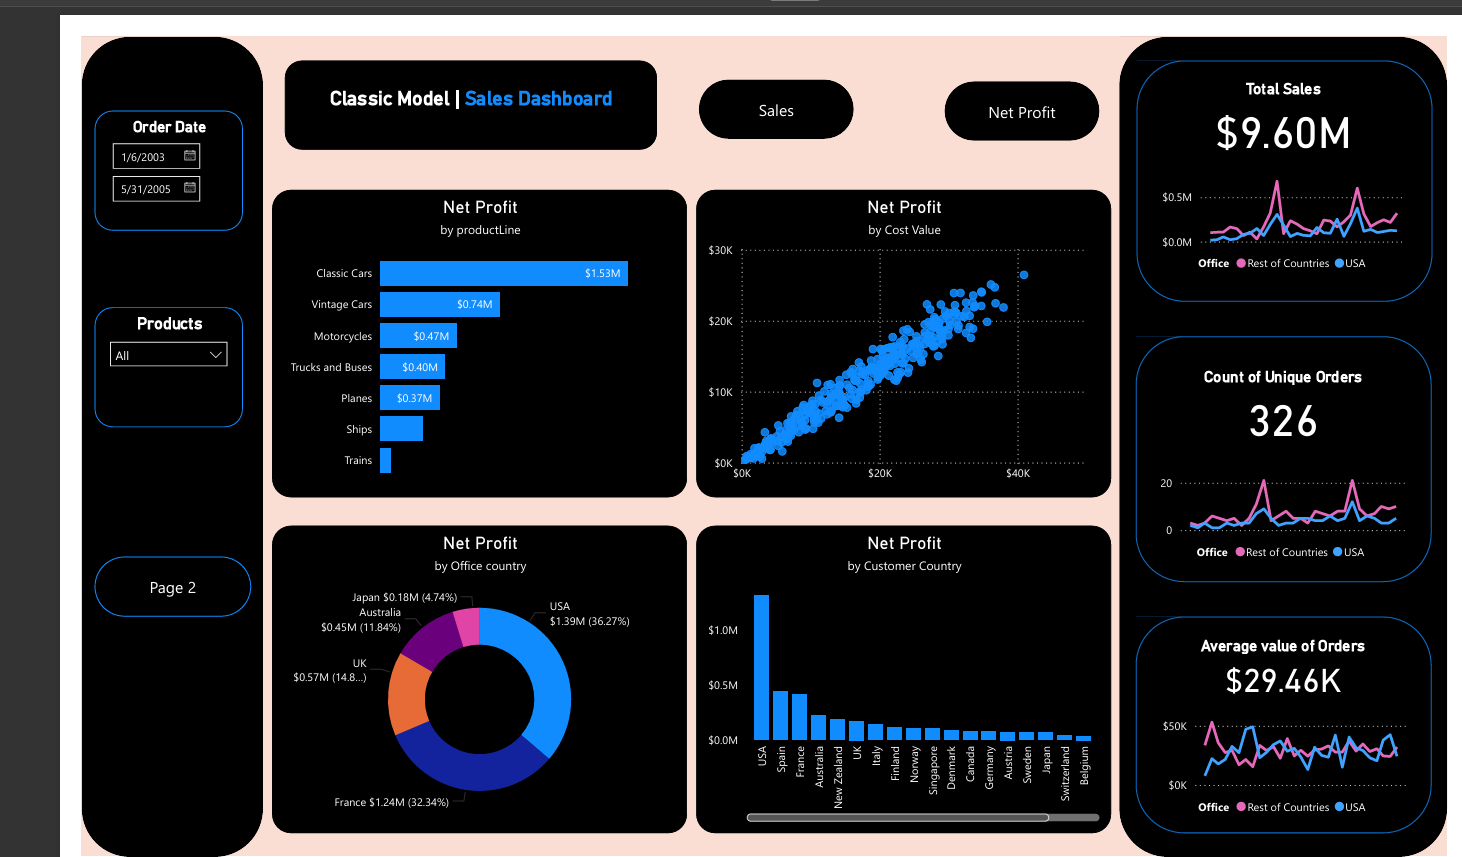

What the dashboard file says about the page in this screenshot:
{"tool":"powerbi","page":{"name":"Sales Overview 1","canvas":[1500,900],"ordinal":0},"visuals":[{"type":"shape","box":[0,0,199.4,900.5],"z":0},{"type":"shape","box":[1140.1,0,360.2,900.5],"z":1000},{"type":"shape","box":[1159.4,25.7,324.8,265.3],"z":2000},{"type":"shape","box":[1157.8,328.8,324.8,270.2],"z":3000},{"type":"shape","title":"Average Value of Each order","box":[1157.8,636.8,324.8,238],"z":4000},{"type":"card","title":"Total Sales","fields":{"Values":["Sum(classicmodels sales_data_for_power_bi.sales_value)"]},"box":[1172.3,46.6,295.9,86.8],"z":5000},{"type":"card","title":"Count of Unique Orders","fields":{"Values":["Count(classicmodels sales_data_for_power_bi.ordernumber)"]},"box":[1172.3,363.4,295.9,86.8],"z":6000},{"type":"card","title":"Average value of Orders","fields":{"Values":["classicmodels sales_data_for_power_bi.Avg Sales per order"]},"box":[1172.3,659.3,295.9,70.8],"z":7000},{"type":"lineChart","fields":{"Y":["Sum(classicmodels sales_data_for_power_bi.sales_value)"],"Category":["classicmodels sales_data_for_power_bi.orderdate.Variation.Date Hierarchy.Year","classicmodels sales_data_for_power_bi.orderdate.Variation.Date Hierarchy.Quarter","classicmodels sales_data_for_power_bi.orderdate.Variation.Date Hierarchy.Month"],"Series":["classicmodels sales_data_for_power_bi.Office Grouped"]},"box":[1181.9,133.5,278.2,133.5],"z":8000},{"type":"lineChart","fields":{"Category":["classicmodels sales_data_for_power_bi.orderdate.Variation.Date Hierarchy.Year","classicmodels sales_data_for_power_bi.orderdate.Variation.Date Hierarchy.Quarter","classicmodels sales_data_for_power_bi.orderdate.Variation.Date Hierarchy.Month"],"Series":["classicmodels sales_data_for_power_bi.Office Grouped"],"Y":["Count(classicmodels sales_data_for_power_bi.ordernumber)"]},"box":[1180.3,450.3,278.2,133.5],"z":9000},{"type":"lineChart","fields":{"Category":["classicmodels sales_data_for_power_bi.orderdate.Variation.Date Hierarchy.Year","classicmodels sales_data_for_power_bi.orderdate.Variation.Date Hierarchy.Quarter","classicmodels sales_data_for_power_bi.orderdate.Variation.Date Hierarchy.Month"],"Series":["classicmodels sales_data_for_power_bi.Office Grouped"],"Y":["classicmodels sales_data_for_power_bi.Avg Sales per order"]},"box":[1181.9,730.1,278.2,133.5],"z":10000},{"type":"clusteredBarChart","fields":{"Category":["classicmodels sales_data_for_power_bi.productLine"],"Y":["Table.Selected Metric"]},"box":[209.3,168,455.4,337.8],"z":11000},{"type":"actionButton","box":[677.7,47.4,170.4,64.8],"z":12000},{"type":"actionButton","box":[947.7,48.9,170.4,64.8],"z":13000},{"type":"scatterChart","fields":{"Y":["Table.Selected Metric"],"X":["Sum(classicmodels sales_data_for_power_bi.cost_of_sales)"],"Category":["classicmodels sales_data_for_power_bi.ordernumber"]},"box":[675.3,168,455.4,337.8],"z":15000},{"type":"donutChart","fields":{"Y":["Table.Selected Metric"],"Category":["classicmodels sales_data_for_power_bi.office_country"]},"box":[209.3,537.5,455.4,337.8],"z":16000},{"type":"clusteredColumnChart","fields":{"Category":["classicmodels sales_data_for_power_bi.customer_country"],"Y":["Table.Selected Metric"]},"box":[675.3,537.5,455.4,337.8],"z":17000},{"type":"textbox","box":[223.2,25.6,408.7,98],"z":18000},{"type":"actionButton","box":[14.3,571.4,171.4,65.7],"z":19000},{"type":"slicer","title":"Order Date","fields":{"Values":["classicmodels sales_data_for_power_bi.orderdate"]},"box":[14.3,81.4,162.9,131.4],"z":20000},{"type":"slicer","title":"Products","fields":{"Values":["classicmodels sales_data_for_power_bi.productName"]},"box":[14.3,297.1,162.9,131.4],"z":21000}]}

Visuals, with their boxes in screenshot pixels (x1, y1, x2, y2):
shape: bbox=[80, 34, 260, 850]
shape: bbox=[1112, 34, 1438, 850]
shape: bbox=[1130, 58, 1424, 298]
shape: bbox=[1128, 332, 1422, 577]
"Average Value of Each order" shape: bbox=[1128, 611, 1422, 826]
"Total Sales" card: bbox=[1141, 76, 1409, 155]
"Count of Unique Orders" card: bbox=[1141, 363, 1409, 442]
"Average value of Orders" card: bbox=[1141, 631, 1409, 695]
lineChart - Sum(classicmodels sales_data_for_power_bi.sales_value) x classicmodels sales_data_for_power_bi.orderdate.Variation.Date Hierarchy.Year: bbox=[1150, 155, 1402, 276]
lineChart - classicmodels sales_data_for_power_bi.orderdate.Variation.Date Hierarchy.Year x classicmodels sales_data_for_power_bi.orderdate.Variation.Date Hierarchy.Quarter: bbox=[1149, 442, 1400, 563]
lineChart - classicmodels sales_data_for_power_bi.orderdate.Variation.Date Hierarchy.Year x classicmodels sales_data_for_power_bi.orderdate.Variation.Date Hierarchy.Quarter: bbox=[1150, 695, 1402, 816]
clusteredBarChart - classicmodels sales_data_for_power_bi.productLine x Table.Selected Metric: bbox=[269, 186, 682, 492]
actionButton: bbox=[694, 77, 848, 136]
actionButton: bbox=[938, 79, 1092, 137]
scatterChart - Table.Selected Metric x Sum(classicmodels sales_data_for_power_bi.cost_of_sales): bbox=[691, 186, 1104, 492]
donutChart - Table.Selected Metric x classicmodels sales_data_for_power_bi.office_country: bbox=[269, 521, 682, 827]
clusteredColumnChart - classicmodels sales_data_for_power_bi.customer_country x Table.Selected Metric: bbox=[691, 521, 1104, 827]
textbox: bbox=[282, 57, 652, 146]
actionButton: bbox=[93, 552, 248, 611]
"Order Date" slicer: bbox=[93, 108, 240, 227]
"Products" slicer: bbox=[93, 303, 240, 422]
